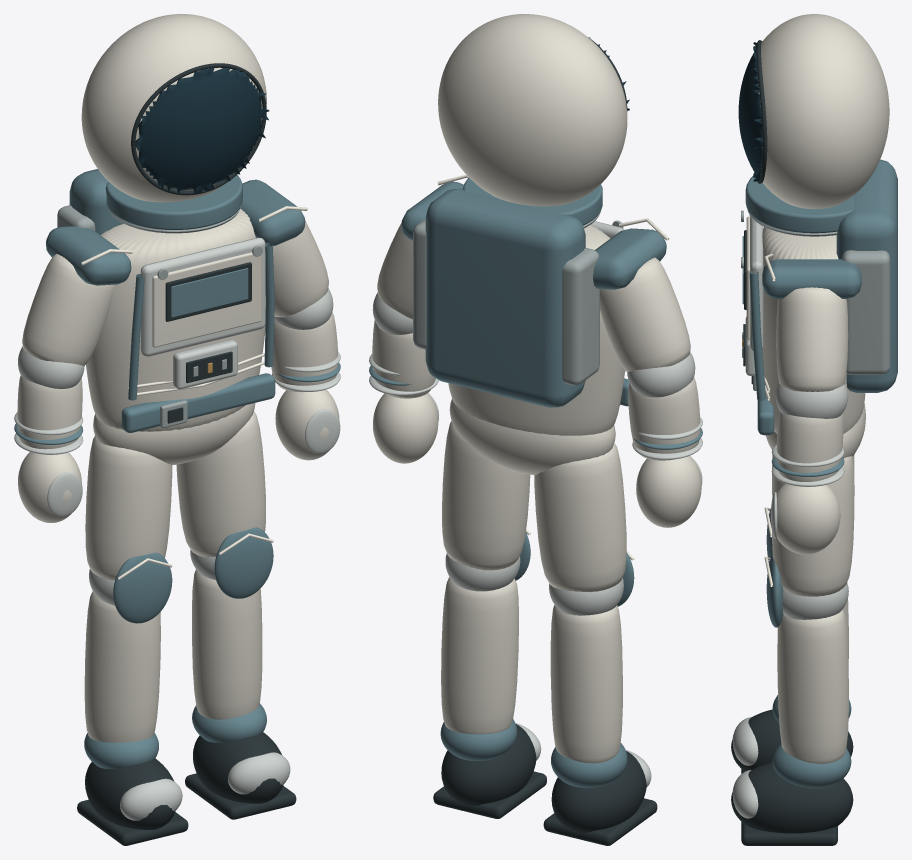
File: astronaut.fbx
3 views of the same model, side by side, from view 1: azimuth 30°, elevation 25°; view 2: azimuth 150°, elevation 25°; view 3: azimuth 270°, elevation 25° (orthographic). The views are drawn at different scales.
Visible parts, largest first — view 1: Helmet shell, Main pressure suit | shaped torso, Visor | flush inset reflective lens, Upper trouser leg L, Lower trouser leg L, Lower trouser leg R, Upper trouser leg R, Upper sleeve L, Chest panel face, Pelvis | tailored hip section, Neck locking collar, Upper sleeve R (+31 smaller); view 2: Helmet shell, Life support backpack, Upper trouser leg L, Lower trouser leg R, Lower trouser leg L, Upper trouser leg R, Main pressure suit | shaped torso, Upper sleeve L, Pelvis | tailored hip section, Backpack side canister -1, Boot R, Boot L (+17 smaller); view 3: Helmet shell, Lower trouser leg R, Upper sleeve R, Life support backpack, Boot R, Backpack side canister 1, Upper trouser leg R, Main pressure suit | shaped torso, Pressure glove R, Forearm sleeve R, Shoulder yoke R, Neck locking collar (+20 smaller).
Boxes of the visible parts, left/top/right/bottom form: Helmet shell: left=81, top=14, right=266, bottom=202; Main pressure suit | shaped torso: left=86, top=209, right=265, bottom=431; Visor | flush inset reflective lens: left=135, top=67, right=269, bottom=194; Upper trouser leg L: left=85, top=435, right=172, bottom=580; Lower trouser leg L: left=84, top=591, right=160, bottom=742; Lower trouser leg R: left=192, top=569, right=262, bottom=719; Upper trouser leg R: left=176, top=411, right=265, bottom=557; Upper sleeve L: left=22, top=254, right=114, bottom=365; Chest panel face: left=152, top=252, right=261, bottom=347; Pelvis | tailored hip section: left=93, top=403, right=255, bottom=465; Neck locking collar: left=105, top=174, right=242, bottom=229; Upper sleeve R: left=273, top=221, right=328, bottom=317; Helmet shell: left=438, top=14, right=627, bottom=206; Life support backpack: left=425, top=188, right=585, bottom=407; Upper trouser leg L: left=534, top=443, right=626, bottom=592; Lower trouser leg R: left=441, top=577, right=518, bottom=734; Lower trouser leg L: left=550, top=605, right=622, bottom=763; Upper trouser leg R: left=442, top=421, right=530, bottom=570; Main pressure suit | shaped torso: left=448, top=225, right=624, bottom=435; Upper sleeve L: left=600, top=257, right=690, bottom=371; Pelvis | tailored hip section: left=449, top=399, right=615, bottom=475; Backpack side canister -1: left=562, top=248, right=599, bottom=385; Boot R: left=441, top=724, right=536, bottom=805; Boot L: left=551, top=751, right=646, bottom=832; Helmet shell: left=757, top=14, right=889, bottom=209; Lower trouser leg R: left=777, top=609, right=848, bottom=763; Upper sleeve R: left=776, top=287, right=848, bottom=391; Life support backpack: left=836, top=159, right=897, bottom=392; Boot R: left=731, top=762, right=853, bottom=833; Backpack side canister 1: left=842, top=250, right=890, bottom=374; Upper trouser leg R: left=772, top=456, right=854, bottom=596; Main pressure suit | shaped torso: left=762, top=227, right=865, bottom=433; Pressure glove R: left=770, top=483, right=840, bottom=554; Forearm sleeve R: left=776, top=411, right=843, bottom=481; Shoulder yoke R: left=762, top=259, right=861, bottom=298; Neck locking collar: left=745, top=176, right=854, bottom=233.
Bounding box in the file's own units: 287 × 681 × 131.
